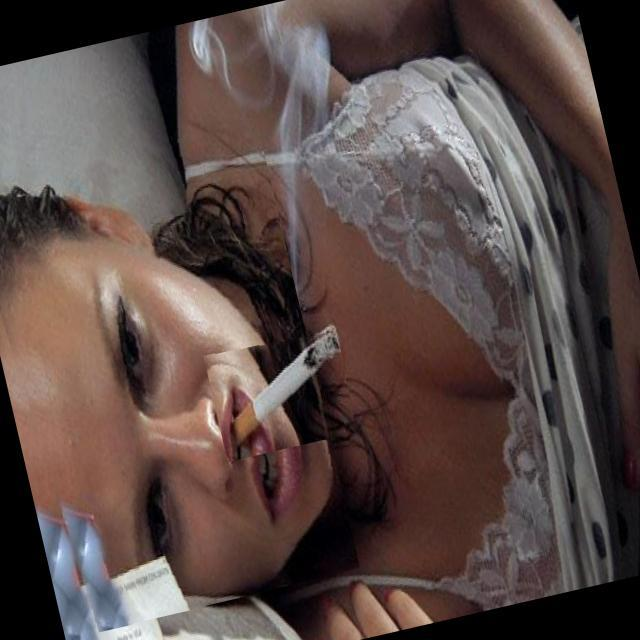cigarette: (203, 324, 359, 462)
